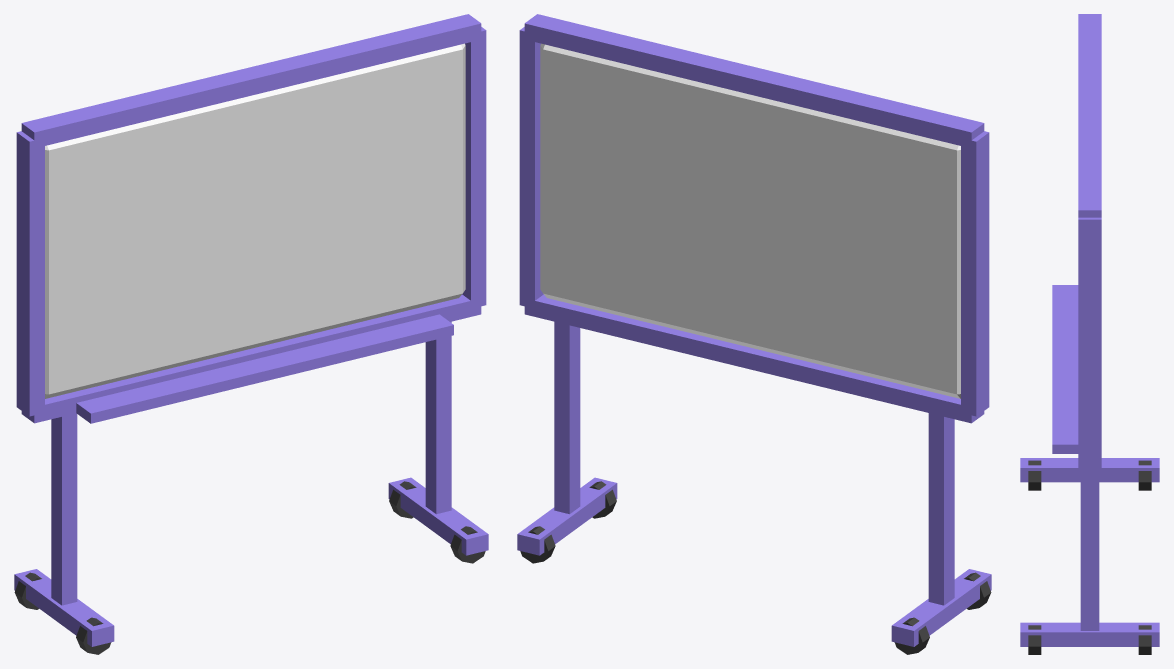
The picture shows the model from 3 angles, left to right: view 1: azimuth 30°, elevation 25°; view 2: azimuth 150°, elevation 25°; view 3: azimuth 270°, elevation 25°; orthographic projection. The views are drawn at different scales.
Parts seen in each view (by area): view 1: Writing surface, Frame rail.001, Marker ledge, Frame upright, Frame rail, Frame upright.001, Stand, Stand.001, Caster beam.001, Caster beam; view 2: Writing surface, Frame rail.001, Frame rail, Frame upright, Frame upright.001, Stand, Stand.001, Caster beam.001, Caster beam; view 3: Frame upright.001, Frame rail.001, Marker ledge, Stand.001, Caster beam.001, Caster beam, Wheel, Wheel.001, Wheel.002, Wheel.003.
Part boxes in pixels (x1,y1,x2,y2): Writing surface: [45, 43, 465, 398]; Frame rail.001: [21, 14, 481, 148]; Marker ledge: [76, 314, 453, 423]; Frame upright: [16, 131, 44, 416]; Frame rail: [21, 294, 481, 423]; Frame upright.001: [462, 27, 486, 308]; Stand: [51, 413, 77, 605]; Stand.001: [425, 321, 451, 514]; Caster beam.001: [388, 477, 488, 555]; Caster beam: [14, 569, 114, 646]; Writing surface: [540, 43, 960, 398]; Frame rail.001: [524, 14, 984, 145]; Frame rail: [524, 294, 984, 423]; Frame upright: [961, 131, 989, 416]; Frame upright.001: [519, 27, 543, 306]; Stand: [928, 413, 954, 605]; Stand.001: [554, 321, 580, 514]; Caster beam.001: [517, 477, 617, 555]; Caster beam: [891, 569, 991, 646]; Frame upright.001: [1078, 217, 1101, 467]; Frame rail.001: [1078, 14, 1101, 217]; Marker ledge: [1052, 285, 1078, 453]; Stand.001: [1080, 472, 1099, 630]; Caster beam.001: [1020, 622, 1159, 646]; Caster beam: [1020, 458, 1159, 482]; Wheel: [1028, 460, 1041, 490]; Wheel.001: [1138, 460, 1151, 490]; Wheel.002: [1028, 625, 1041, 654]; Wheel.003: [1138, 625, 1151, 654].
Size of the model in its own units: 163 by 175 by 48.
